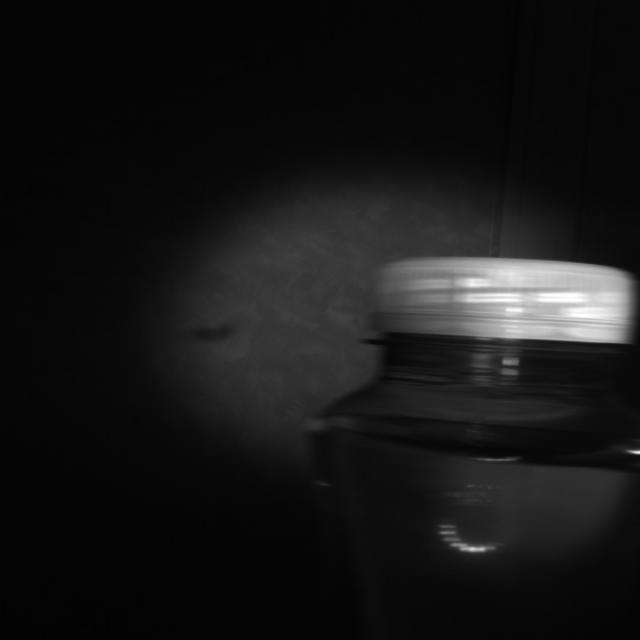Good: (371, 259, 640, 350)
